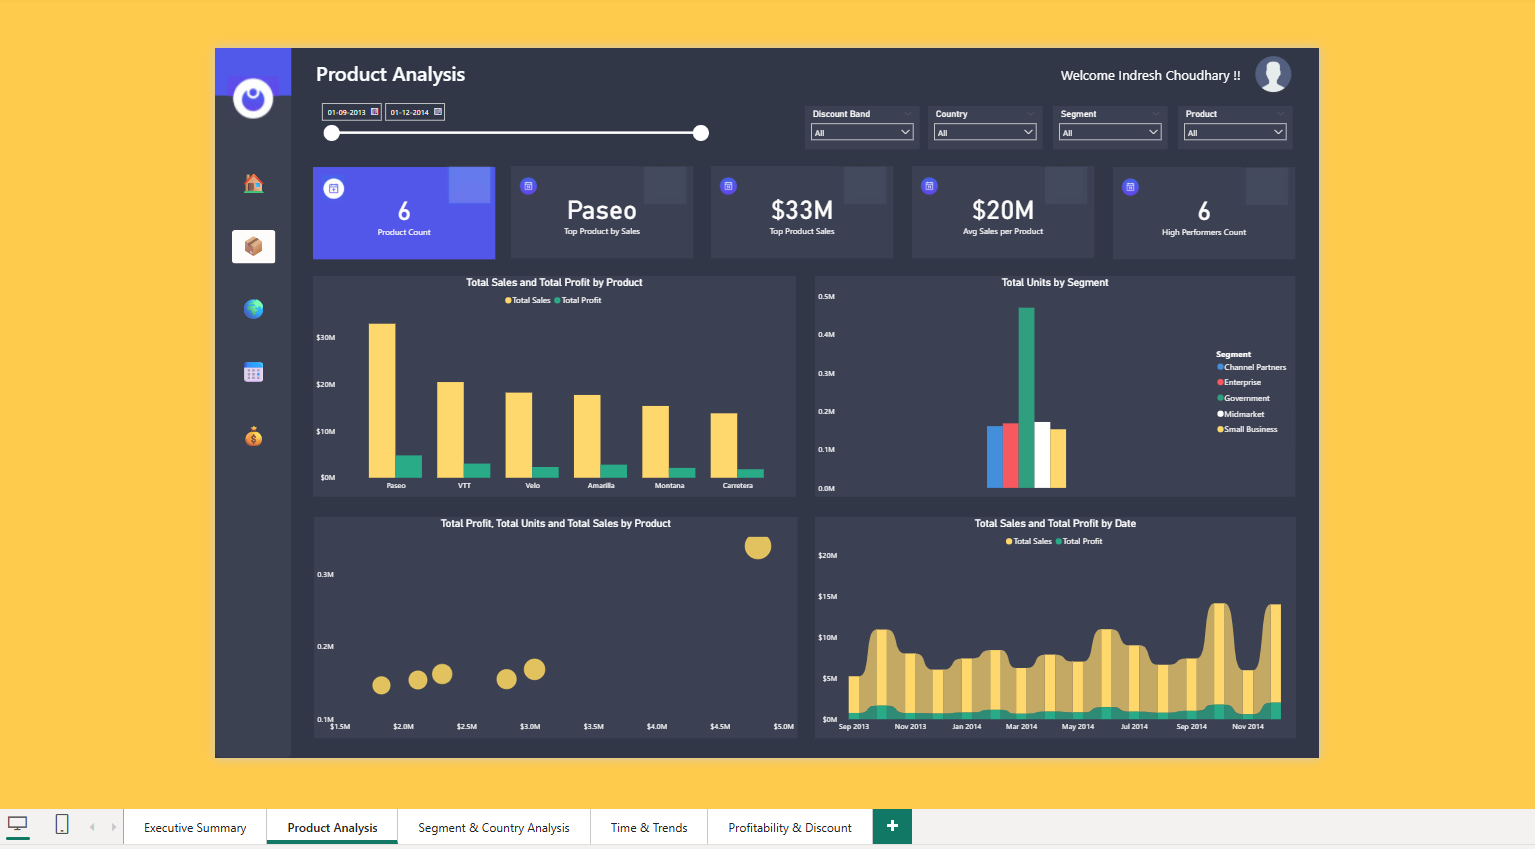

Layout of this report page (visuals, bound fields, positions):
{"tool":"powerbi","page":{"name":"Product Analysis","canvas":[1780,1145],"ordinal":1},"visuals":[{"type":"shape","box":[0,51.7,123.3,1093.3],"z":0},{"type":"slicer","fields":{"Values":["Product.Product"]},"box":[1553.4,93.9,185,70],"z":0,"group":"g7"},{"type":"card","fields":{"Values":["All Measures.Top Product Sales"]},"box":[800.4,190.8,293.9,149.1],"z":0,"group":"g3"},{"type":"card","fields":{"Values":["All Measures.Avg Sales per Product"]},"box":[1124.8,190.9,293.9,149.1],"z":0,"group":"g4"},{"type":"card","fields":{"Values":["All Measures.Product Count"]},"box":[158.1,191.4,293.9,149.1],"z":0,"group":"g1"},{"type":"card","fields":{"Values":["All Measures.Top Product by Sales"]},"box":[477,191.4,293.9,149.1],"z":0,"group":"g2"},{"type":"card","fields":{"Values":["All Measures.High Performers Count"]},"box":[1448.3,192.3,293.9,149.1],"z":0,"group":"g5"},{"type":"shape","box":[0,0,123.3,76.7],"z":1000},{"type":"slicer","fields":{"Values":["Segment.Segment"]},"box":[1351.7,93.9,185,70],"z":1000,"group":"g7"},{"type":"image","box":[368.7,159.1,83.4,118.8],"z":1000,"group":"g1"},{"type":"image","box":[1002.6,174.1,91.7,86.5],"z":1000,"group":"g3"},{"type":"image","box":[1327,174.2,91.7,86.5],"z":1000,"group":"g4"},{"type":"image","box":[679.2,174.7,91.7,86.5],"z":1000,"group":"g2"},{"type":"image","box":[1650.5,175.6,91.7,86.5],"z":1000,"group":"g5"},{"type":"textbox","box":[158.3,13.3,370,68.3],"z":2000},{"type":"slicer","fields":{"Values":["Country.Country"]},"box":[1150,93.9,185,70],"z":2000,"group":"g7"},{"type":"image","box":[800.4,198.1,57.3,47.9],"z":2000,"group":"g3"},{"type":"image","box":[1124.8,198.2,57.3,47.9],"z":2000,"group":"g4"},{"type":"image","box":[167.5,198.7,45.9,52.1],"z":2000,"group":"g1"},{"type":"image","box":[477,198.7,57.3,47.9],"z":2000,"group":"g2"},{"type":"image","box":[1448.3,199.6,57.3,47.9],"z":2000,"group":"g5"},{"type":"image","box":[1671.3,8.8,71.7,68.3],"z":3000,"group":"g6"},{"type":"image","box":[13.3,40,96.7,81.7],"z":3000},{"type":"slicer","fields":{"Values":["Discount Band.Discount Band"]},"box":[951.7,93.9,185,70],"z":3000,"group":"g7"},{"type":"shape","box":[1345.2,20.9,328.3,46.7],"z":4000,"group":"g6"},{"type":"group","id":"g1","title":"Group 1","box":[158.1,159.1,293.9,181.4],"z":4000},{"type":"shape","box":[26.7,190,70,54],"z":5000},{"type":"group","id":"g2","title":"Group 2","box":[477,174.7,293.9,165.7],"z":6000},{"type":"group","id":"g3","title":"Group 2","box":[800.4,174.1,293.9,165.7],"z":7000},{"type":"shape","box":[26.7,292.8,70,54],"z":8000},{"type":"group","id":"g4","title":"Group 2","box":[1124.8,174.2,294.4,166.1],"z":9000},{"type":"shape","box":[26.7,395,70,54],"z":10000},{"type":"group","id":"g5","title":"Group 2","box":[1448.3,175.6,294.6,165.6],"z":11000},{"type":"group","id":"g6","title":"Group 3","box":[1345.2,8.8,397.8,68.3],"z":12000},{"type":"shape","box":[26.7,497.2,70,54],"z":13000},{"type":"shape","box":[26.7,599.4,70,54],"z":14000},{"type":"clusteredColumnChart","fields":{"Category":["Product.Product"],"Y":["All Measures.Total Sales","All Measures.Total Profit"]},"box":[158.6,368.5,778.8,355.8],"z":15000},{"type":"clusteredColumnChart","fields":{"Series":["Segment.Segment"],"Y":["All Measures.Total Units"]},"box":[968.2,368.5,774.6,355.8],"z":16000},{"type":"ribbonChart","fields":{"Category":["Calendar.Date"],"Y":["All Measures.Total Sales","All Measures.Total Profit"]},"box":[968.3,756.9,775.9,356.5],"z":17000},{"type":"scatterChart","fields":{"X":["All Measures.Total Profit"],"Y":["All Measures.Total Units"],"Category":["Product.Product"],"Size":["All Measures.Total Sales"]},"box":[159.2,756.9,779.6,356.5],"z":18000},{"type":"group","id":"g7","title":"Group 5","box":[951.7,93.9,786.7,70],"z":19000},{"type":"slicer","fields":{"Values":["Calendar.Date"]},"box":[160,78.3,645,96.7],"z":20000}]}

Visuals, with their boxes on the page's 1780x1145 design canvas (x1, y1, x2, y2). These are canvas units, not pixel positions in the 1535x849 screenshot, which may show the page scaled, cropped or inside an application window:
shape: l=0, t=52, r=123, b=1145
slicer - Product.Product: l=1553, t=94, r=1738, b=164
card - All Measures.Top Product Sales: l=800, t=191, r=1094, b=340
card - All Measures.Avg Sales per Product: l=1125, t=191, r=1419, b=340
card - All Measures.Product Count: l=158, t=191, r=452, b=340
card - All Measures.Top Product by Sales: l=477, t=191, r=771, b=340
card - All Measures.High Performers Count: l=1448, t=192, r=1742, b=341
shape: l=0, t=0, r=123, b=77
slicer - Segment.Segment: l=1352, t=94, r=1537, b=164
image: l=369, t=159, r=452, b=278
image: l=1003, t=174, r=1094, b=261
image: l=1327, t=174, r=1419, b=261
image: l=679, t=175, r=771, b=261
image: l=1650, t=176, r=1742, b=262
textbox: l=158, t=13, r=528, b=82
slicer - Country.Country: l=1150, t=94, r=1335, b=164
image: l=800, t=198, r=858, b=246
image: l=1125, t=198, r=1182, b=246
image: l=168, t=199, r=213, b=251
image: l=477, t=199, r=534, b=247
image: l=1448, t=200, r=1506, b=248
image: l=1671, t=9, r=1743, b=77
image: l=13, t=40, r=110, b=122
slicer - Discount Band.Discount Band: l=952, t=94, r=1137, b=164
shape: l=1345, t=21, r=1674, b=68
"Group 1" group: l=158, t=159, r=452, b=340
shape: l=27, t=190, r=97, b=244
"Group 2" group: l=477, t=175, r=771, b=340
"Group 2" group: l=800, t=174, r=1094, b=340
shape: l=27, t=293, r=97, b=347
"Group 2" group: l=1125, t=174, r=1419, b=340
shape: l=27, t=395, r=97, b=449
"Group 2" group: l=1448, t=176, r=1743, b=341
"Group 3" group: l=1345, t=9, r=1743, b=77
shape: l=27, t=497, r=97, b=551
shape: l=27, t=599, r=97, b=653
clusteredColumnChart - Product.Product x All Measures.Total Sales: l=159, t=368, r=937, b=724
clusteredColumnChart - Segment.Segment x All Measures.Total Units: l=968, t=368, r=1743, b=724
ribbonChart - Calendar.Date x All Measures.Total Sales: l=968, t=757, r=1744, b=1113
scatterChart - All Measures.Total Profit x All Measures.Total Units: l=159, t=757, r=939, b=1113
"Group 5" group: l=952, t=94, r=1738, b=164
slicer - Calendar.Date: l=160, t=78, r=805, b=175
